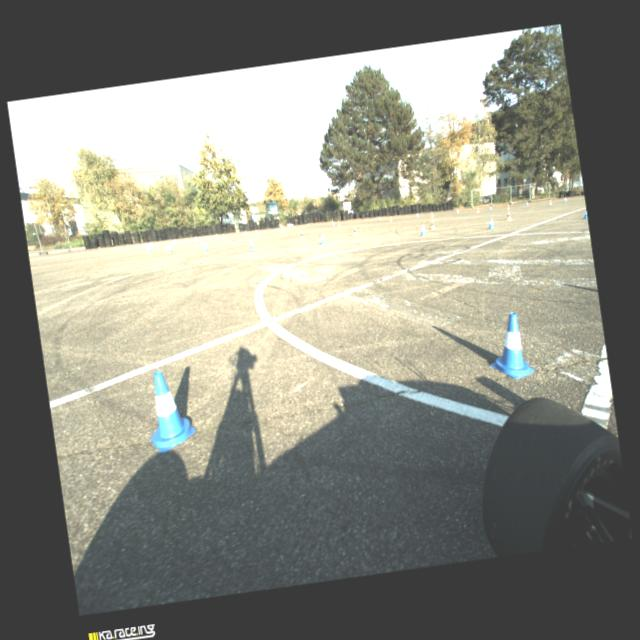blue_cone: (142, 368, 198, 453), (484, 311, 536, 382), (487, 217, 495, 229), (419, 224, 426, 237), (319, 233, 326, 245), (248, 238, 255, 250), (203, 242, 210, 252), (582, 209, 588, 219), (166, 242, 172, 252), (147, 244, 153, 253), (148, 242, 153, 250), (216, 233, 220, 240), (194, 236, 198, 242), (244, 230, 248, 236), (378, 216, 382, 222), (456, 208, 460, 214), (173, 239, 177, 244), (564, 197, 568, 202), (416, 212, 419, 218), (488, 206, 492, 210), (332, 220, 334, 226), (526, 201, 528, 206)
yellow_cone: (299, 230, 306, 240), (230, 236, 237, 246), (506, 210, 512, 220), (430, 220, 436, 230), (352, 227, 358, 237), (201, 239, 206, 247), (199, 238, 204, 245), (336, 220, 341, 227), (222, 233, 226, 240), (506, 203, 510, 210), (255, 230, 259, 236), (280, 228, 284, 234), (389, 214, 392, 222), (430, 212, 434, 218), (548, 199, 552, 205), (476, 208, 480, 212)
